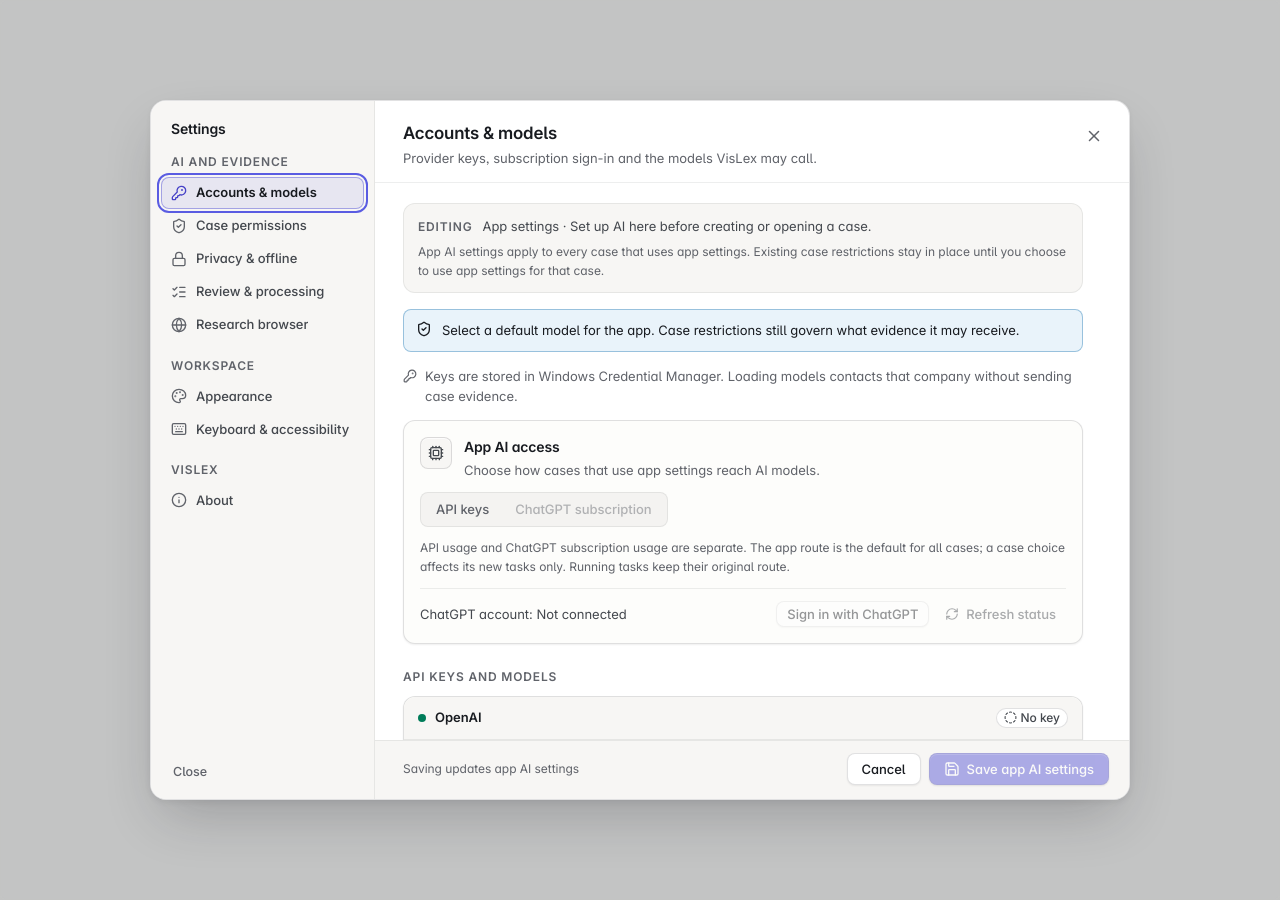
Test: saves app AI permissions independently of a case
Later steps or results of the test are not shown.
What coordinates should you click on to do the following:
click the button "Case permissions"
I would click on:
 (262, 226)
Its box is [161,210,364,242].
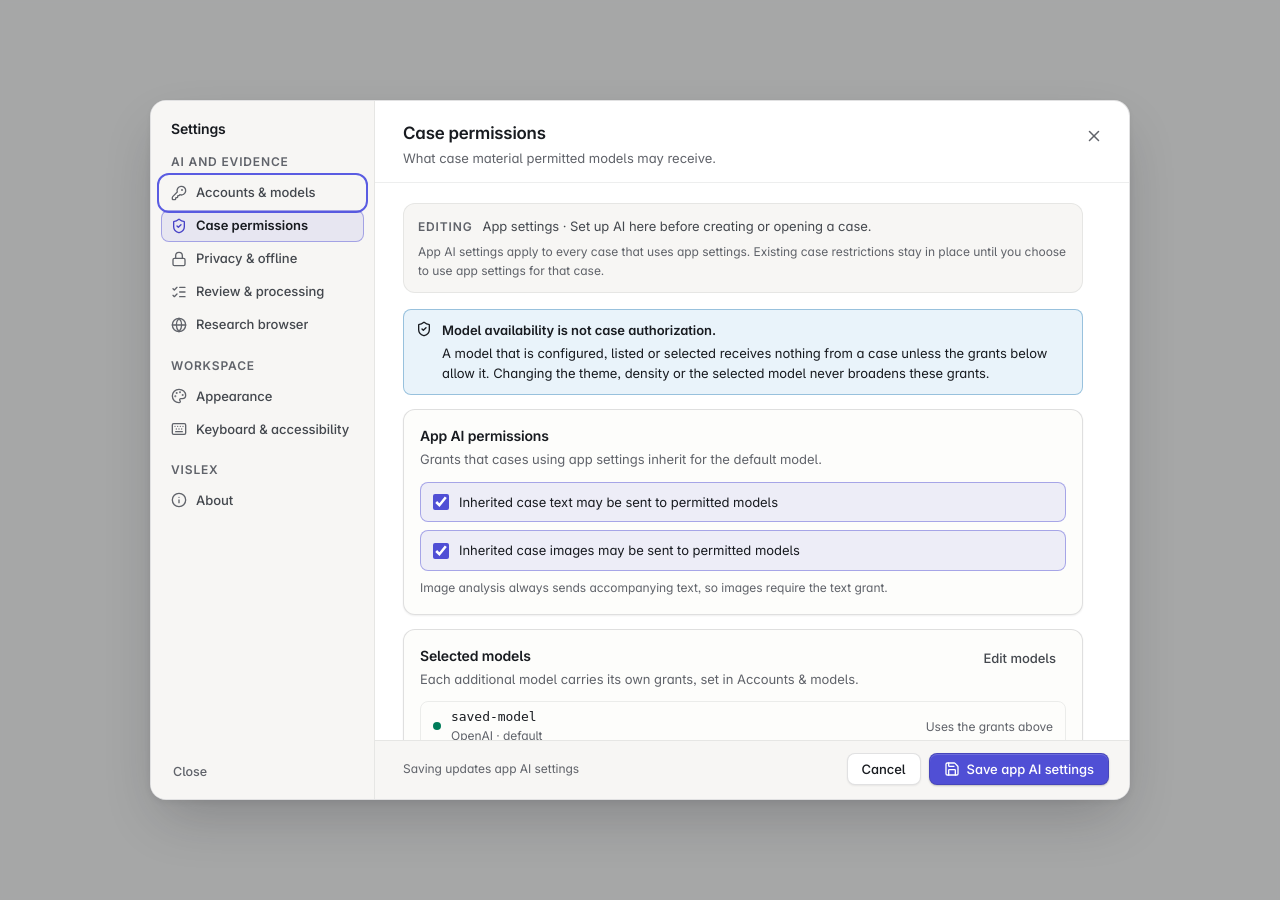
Now the checkbox labelled "Inherited case text may be sent to permitted models" is shown, box [433,494,449,510]
